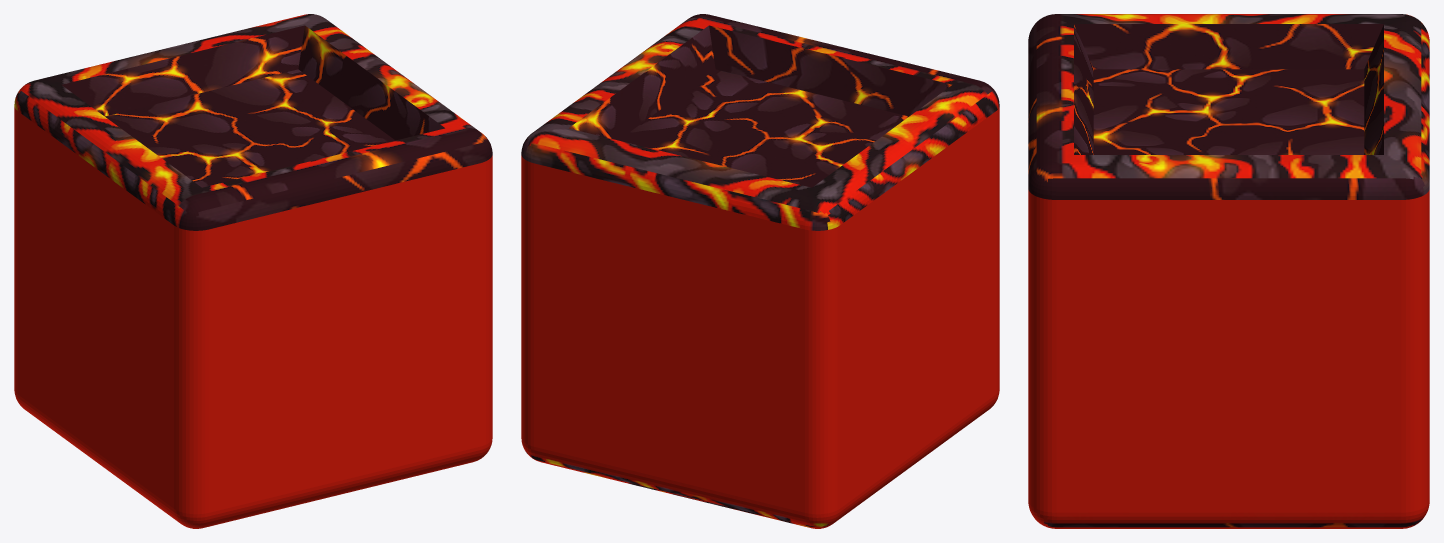
The model's file is cubeHell 1.fbx.
3 views of the same model, side by side, from view 1: azimuth 30°, elevation 25°; view 2: azimuth 150°, elevation 25°; view 3: azimuth 270°, elevation 25° (orthographic). The views are drawn at different scales.
Visible parts, largest first — view 1: Cube; view 2: Cube; view 3: Cube.
Part boxes in pixels (x1=…): Cube: x1=14, y1=14, x2=492, y2=528; Cube: x1=521, y1=14, x2=999, y2=528; Cube: x1=1028, y1=14, x2=1429, y2=528.
Size of the model in its own units: 400 by 400 by 400.
